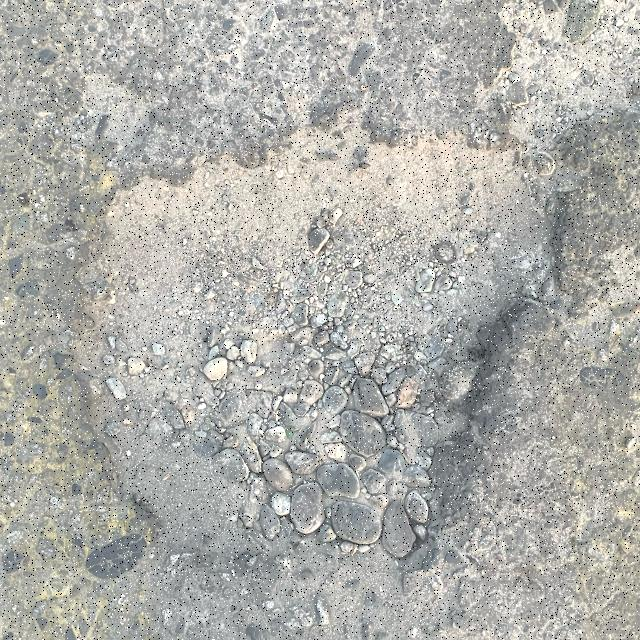damaged: (42, 78, 588, 573)
